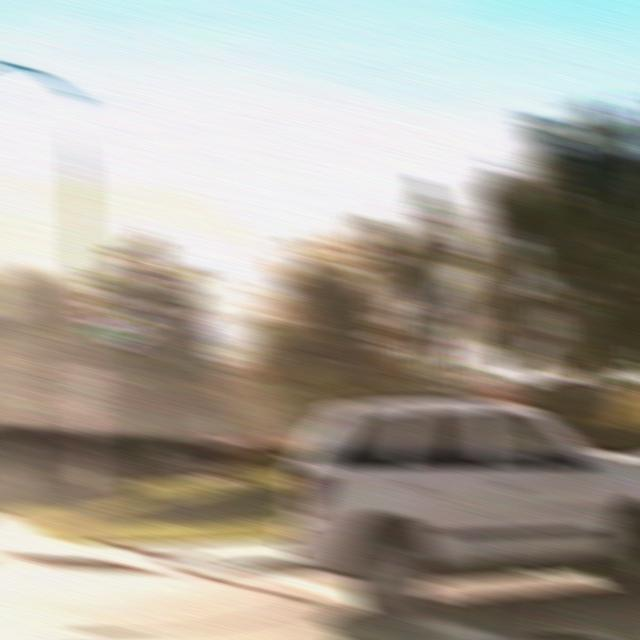speedLimit35: (62, 360, 107, 416)
